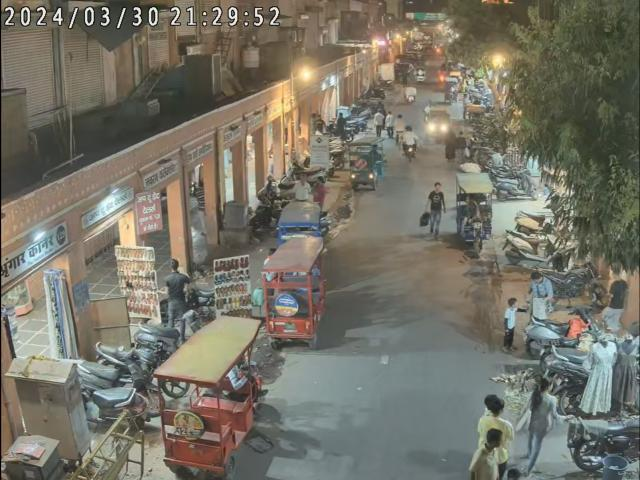auto: (151, 317, 264, 477), (264, 236, 324, 344), (454, 170, 492, 260)
person: (524, 373, 560, 478), (473, 425, 514, 480), (161, 255, 187, 340), (524, 272, 550, 327), (424, 182, 447, 236), (498, 294, 521, 347)
scooty: (78, 351, 154, 423), (525, 305, 600, 354), (504, 221, 564, 270), (128, 310, 204, 348), (518, 199, 566, 230)
